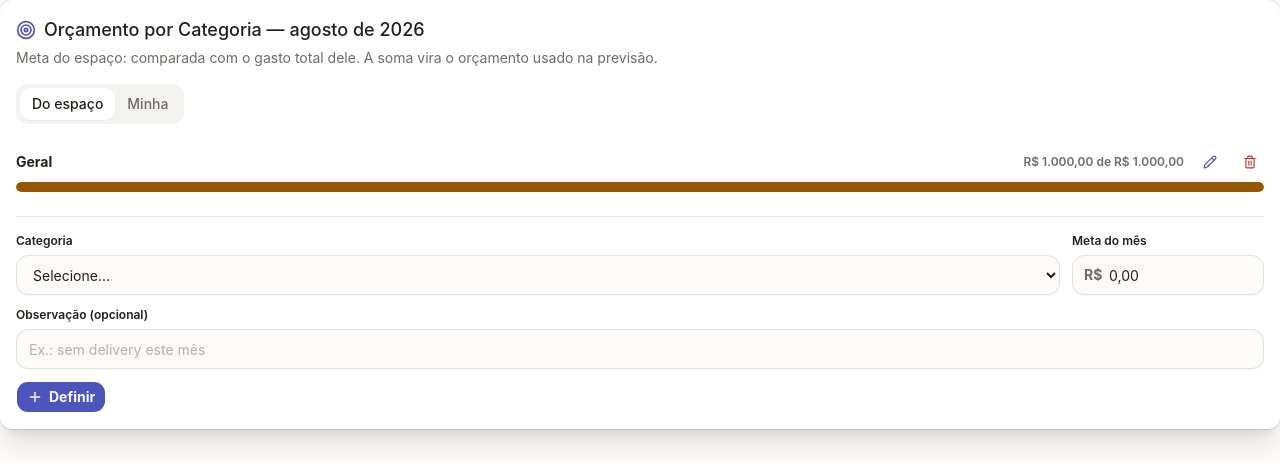
BudgetPanel › separa a meta da casa da meta pessoal
Expected: the text "R$ 1.000,00 de R$ 1.000,00" is shown, [1023,154,1184,170]
Click the tab "Minha".
click(148, 104)  # box [115,88,180,120]
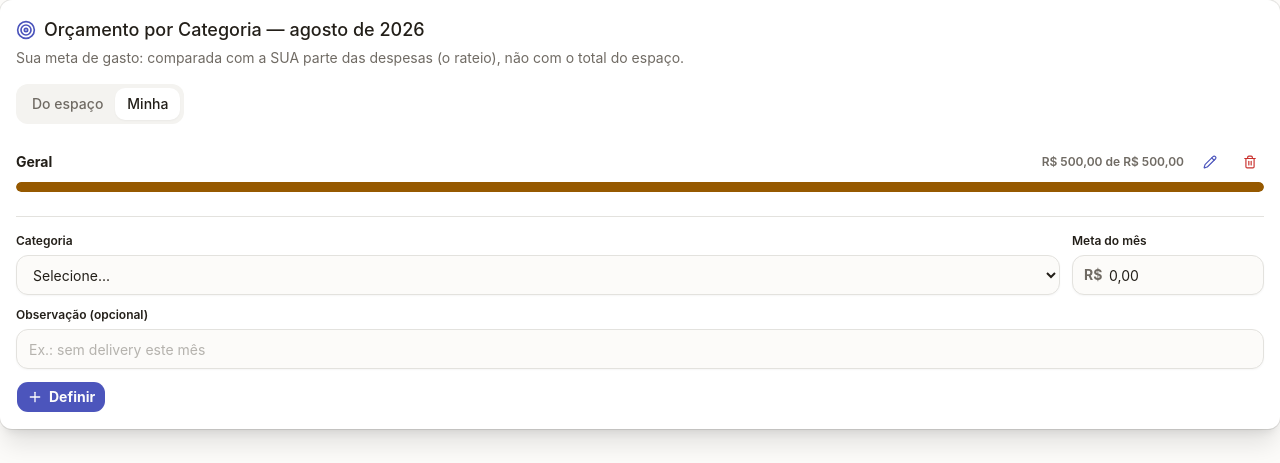
Now the text "R$ 500,00 de R$ 500,00" is shown, box [1042,154,1184,170]
